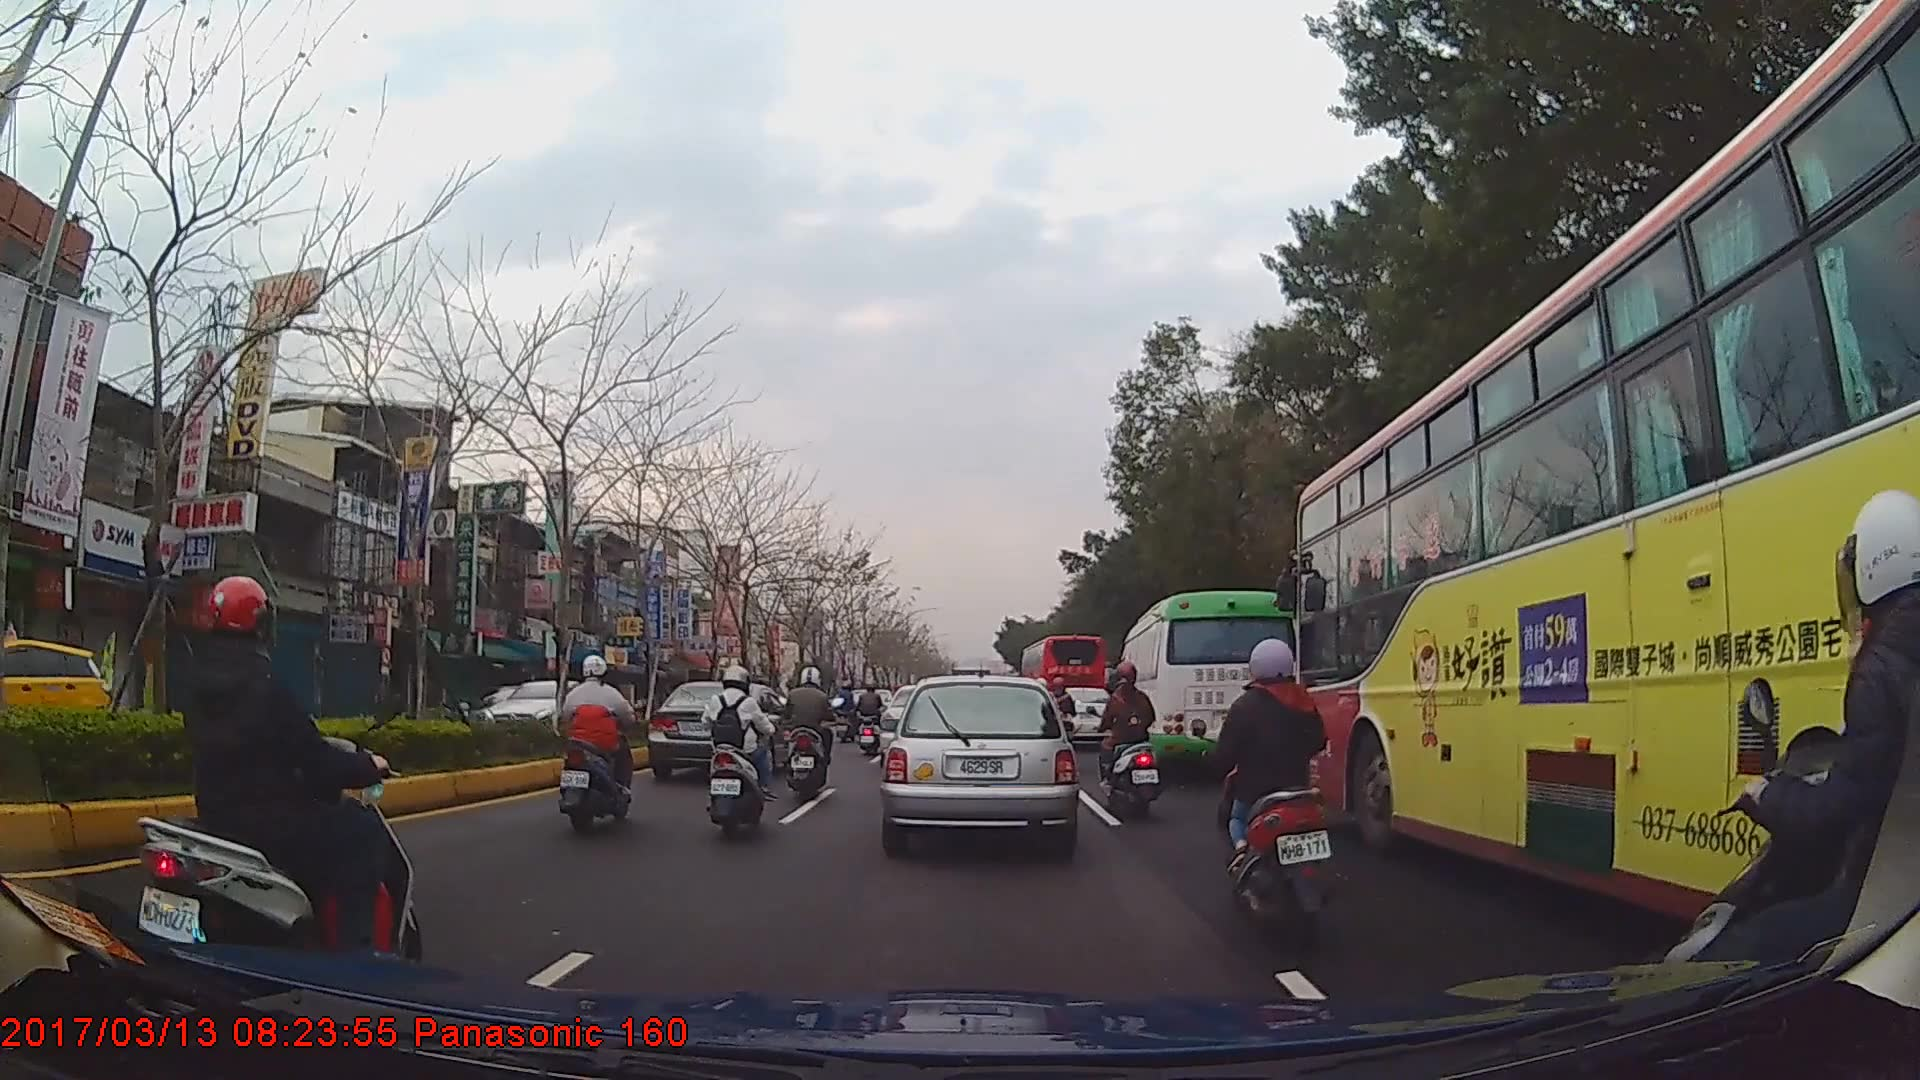rider: (1646, 487, 1920, 1058), (133, 575, 416, 977), (1207, 637, 1338, 947), (562, 653, 639, 834), (702, 664, 775, 839), (1100, 663, 1163, 811), (780, 666, 843, 803), (855, 681, 888, 757), (838, 680, 860, 724)
vehicle: (1293, 0, 1920, 1013), (1115, 588, 1301, 779), (881, 670, 1078, 850), (0, 622, 125, 764), (646, 678, 796, 784), (1018, 631, 1107, 743)
